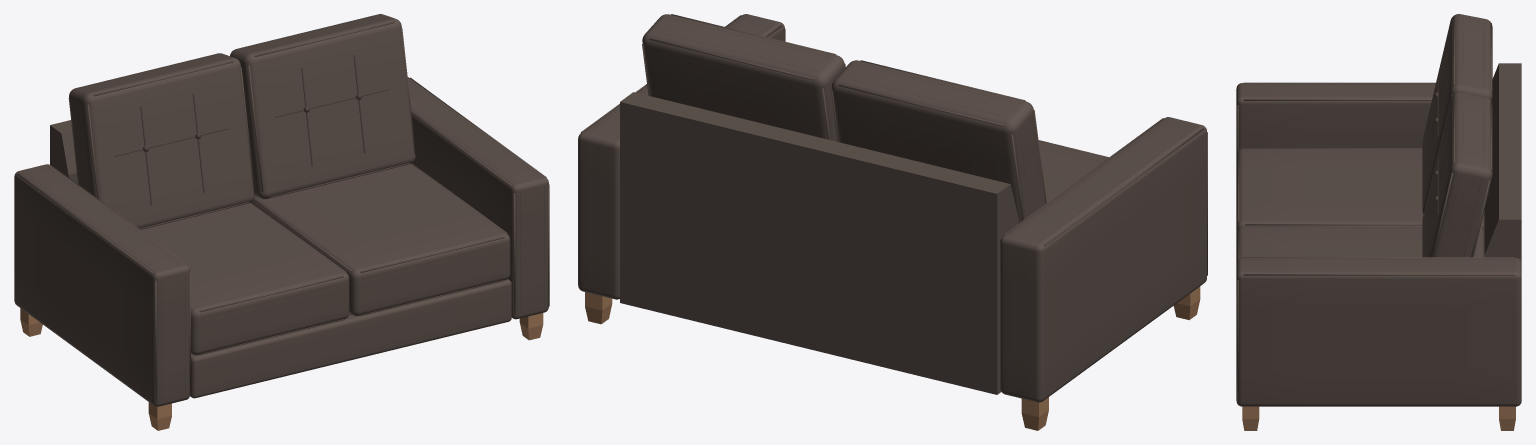
File: benza_160x100.glb
3 renders of one model, left to right at view 1: azimuth 30°, elevation 25°; view 2: azimuth 150°, elevation 25°; view 3: azimuth 270°, elevation 25°, orthographic. The views are drawn at different scales.
Parts seen in each view (by area): view 1: p1, p2, p0; view 2: p1, p0, p2; view 3: p1, p2, p0.
Boxes of the visible parts, left/top/right/bottom form: p1: left=14, top=14, right=549, bottom=406; p2: left=23, top=15, right=544, bottom=400; p0: left=20, top=308, right=543, bottom=430; p1: left=578, top=14, right=1207, bottom=402; p0: left=585, top=286, right=1200, bottom=430; p2: left=588, top=16, right=1196, bottom=241; p1: left=1236, top=14, right=1521, bottom=406; p2: left=1245, top=16, right=1513, bottom=259; p0: left=1242, top=406, right=1515, bottom=430.
Bounding box in the file's own units: 1.6 × 0.9642 × 1.
Materials: 3 (2 with a texture image).
